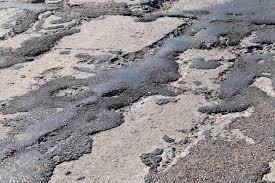pothole: (1, 1, 275, 183), (15, 4, 193, 106), (18, 90, 205, 174), (131, 59, 244, 161), (199, 18, 267, 134)
